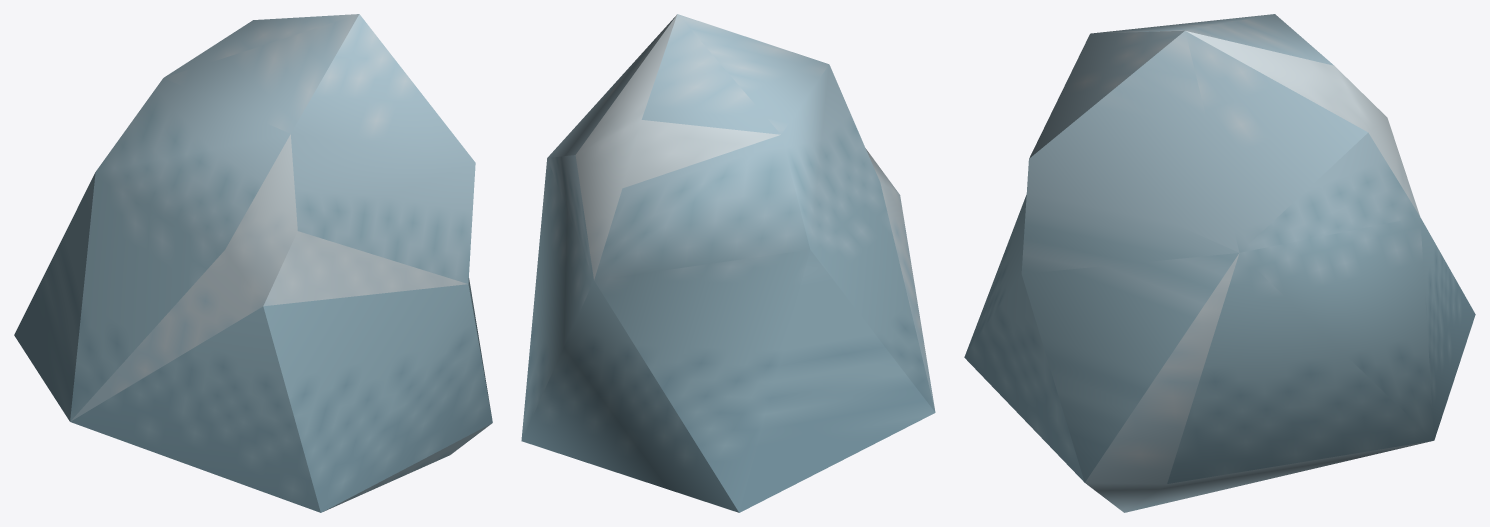
File: Silver_Nugget_Medium.gltf
3 renders of one model, left to right at view 1: azimuth 30°, elevation 25°; view 2: azimuth 150°, elevation 25°; view 3: azimuth 270°, elevation 25°, orthographic. The views are drawn at different scales.
Parts seen in each view (by area): view 1: Silver_Nugget_Medium; view 2: Silver_Nugget_Medium; view 3: Silver_Nugget_Medium.
Boxes of the visible parts, x1,y1,x2,y2 form: Silver_Nugget_Medium: [14, 14, 492, 512]; Silver_Nugget_Medium: [521, 14, 935, 512]; Silver_Nugget_Medium: [964, 14, 1475, 512].
Size of the model in its own units: 0.2589 by 0.2781 by 0.2819.
Materials: 1 (1 with a texture image).
